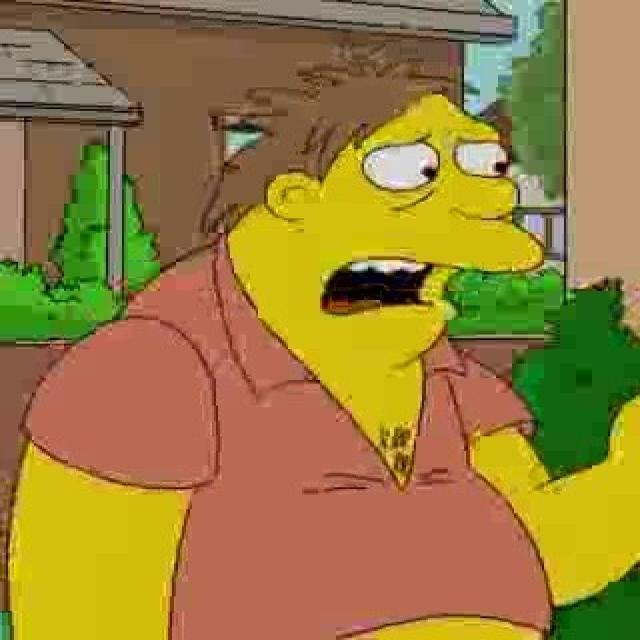Barney Gumble: (203, 56, 553, 380)
